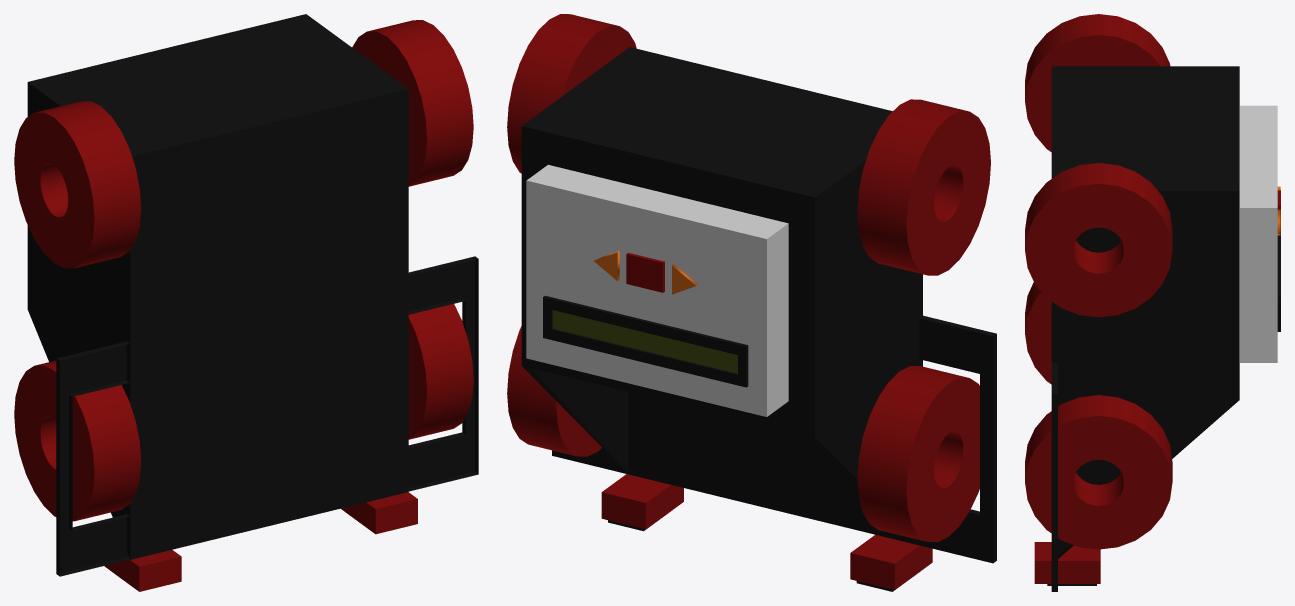
Rendered from Robot-2.FBX.
3 renders of one model, left to right at view 1: azimuth 30°, elevation 25°; view 2: azimuth 150°, elevation 25°; view 3: azimuth 270°, elevation 25°, orthographic. The views are drawn at different scales.
Parts seen in each view (by area): view 1: Body, Wheels, Sensor 1, Sensor 2; view 2: Body, Wheels, Sensor 1, Sensor 2; view 3: Body, Wheels, Sensor 2.
Part boxes in pixels (<box>): Body: <box>27,14,478,576</box>; Wheels: <box>14,20,473,521</box>; Sensor 1: <box>104,550,181,591</box>; Sensor 2: <box>341,492,417,534</box>; Body: <box>521,47,996,563</box>; Wheels: <box>507,14,990,542</box>; Sensor 1: <box>850,534,932,591</box>; Sensor 2: <box>601,474,683,531</box>; Body: <box>1051,66,1280,591</box>; Wheels: <box>1025,14,1172,549</box>; Sensor 2: <box>1034,542,1100,585</box>.
Bounding box in the file's own units: 18.94 × 20.09 × 10.93.
